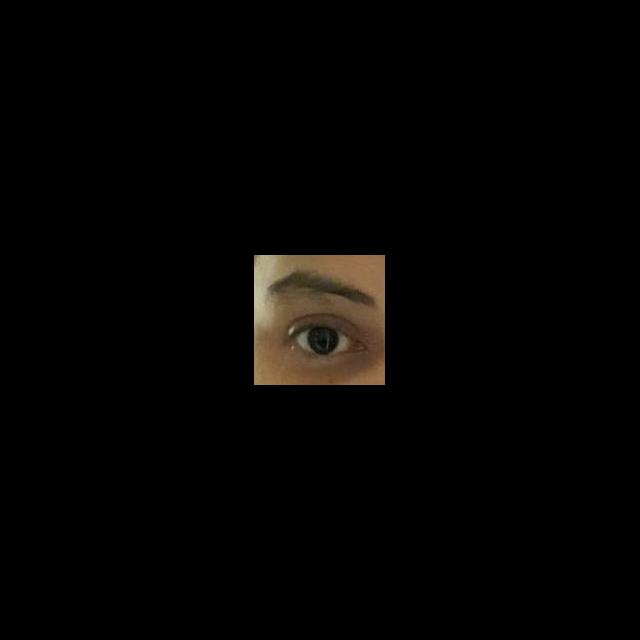eye: (294, 327, 352, 356)
iris: (308, 328, 340, 355)
